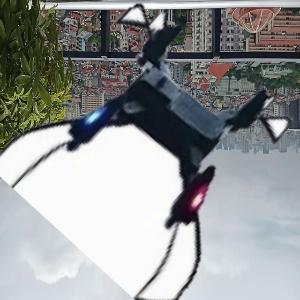drone: (27, 18, 282, 273)
